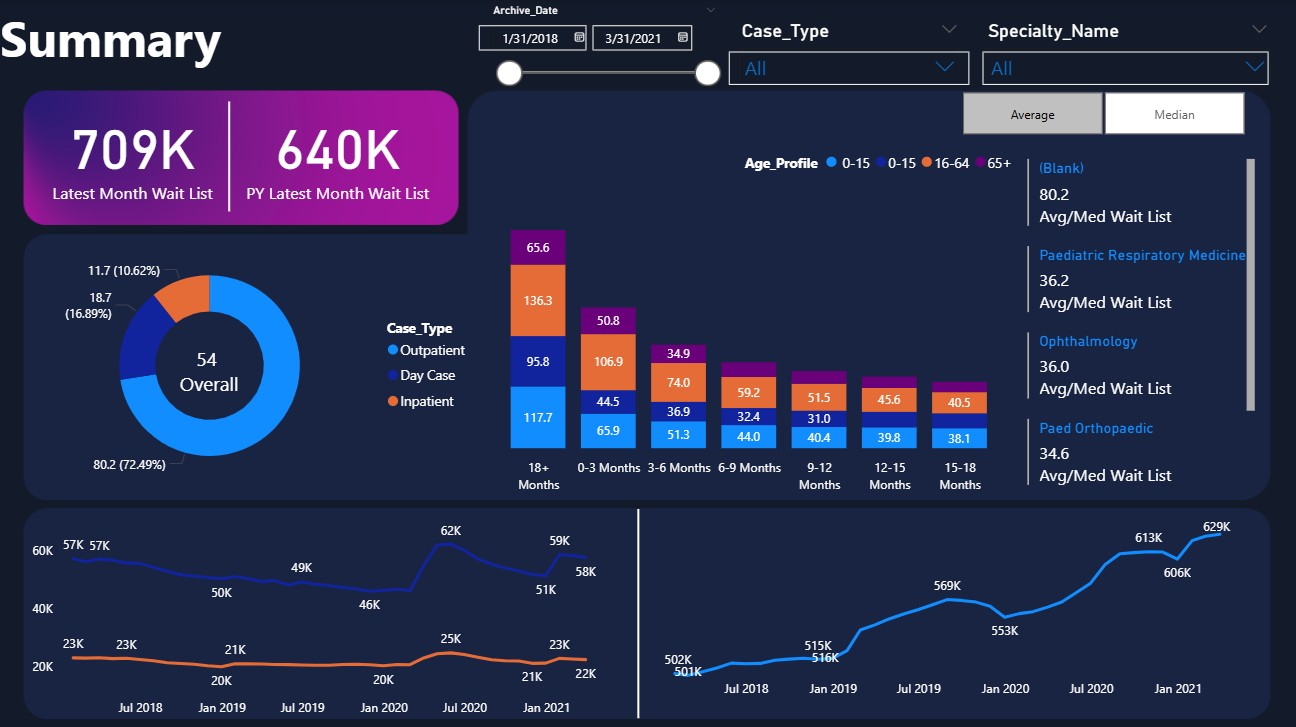

The dashboard page shown, as its layout file describes it:
{"tool":"powerbi","page":{"name":"Summary","canvas":[1280,720],"ordinal":0},"visuals":[{"type":"card","fields":{"Values":["All_Data.Latest Month Wait List"]},"box":[50,96,170,112],"z":0},{"type":"card","fields":{"Values":["All_Data.PY Latest Month Wait List"]},"box":[208,96,256,112],"z":1000},{"type":"slicer","fields":{"Values":["Table.Calc Method"]},"box":[924.4,84.3,326.6,55.3],"z":2000},{"type":"donutChart","fields":{"Category":["All_Data.Case_Type"],"Y":["All_Data.Avg/Med Wait List"]},"box":[31.6,234.4,443.7,251.5],"z":3000},{"type":"columnChart","fields":{"Y":["All_Data.Avg/Med Wait List"],"Series":["All_Data.Age_Profile"],"Category":["All_Data.Time_Bands"]},"box":[464,140,544,352],"z":4000},{"type":"multiRowCard","fields":{"Values":["All_Data.Avg/Med Wait List","All_Data.Specialty_Name"]},"box":[1008,152,233,334],"z":5000},{"type":"lineChart","fields":{"Category":["All_Data.Archive_Date"],"Y":["Sum(All_Data.Total)"],"Series":["All_Data.Case_Type"]},"box":[31.4,500,577.1,214.3],"z":6000},{"type":"slicer","fields":{"Values":["All_Data.Archive_Date"]},"box":[475.7,0,244.3,95.7],"z":7000},{"type":"slicer","fields":{"Values":["All_Data.Case_Type"]},"box":[720,15.7,237.1,64.3],"z":8000},{"type":"slicer","fields":{"Values":["All_Data.Specialty_Name"]},"box":[961.4,15.7,300,64.3],"z":9000},{"type":"textbox","box":[0,0,428,80],"z":10000},{"type":"lineChart","fields":{"Category":["All_Data.Archive_Date"],"Y":["Sum(All_Data.Total)"],"Series":["All_Data.Case_Type"]},"box":[640,500,591.4,195.7],"z":11000},{"type":"textbox","box":[167.2,334.5,86.9,65.8],"z":11001},{"type":"shape","box":[31.6,100.1,396.3,108],"z":11002},{"type":"shape","box":[31.6,500.4,1199.6,205.4],"z":11003},{"type":"shape","box":[475.4,26.3,106.7,25],"z":11004},{"type":"shape","box":[586,26.3,98.8,25],"z":11005},{"type":"shape","box":[720.3,51.4,237,32.9],"z":11006},{"type":"shape","box":[969.1,51.4,281.8,32.9],"z":11007}]}

Visuals, with their boxes in screenshot pixels (x1, y1, x2, y2), scaled from the page's 1280x720 canvas onto the 1296x727 screenshot:
card - All_Data.Latest Month Wait List: rect(51, 97, 223, 210)
card - All_Data.PY Latest Month Wait List: rect(211, 97, 470, 210)
slicer - Table.Calc Method: rect(936, 85, 1267, 141)
donutChart - All_Data.Case_Type x All_Data.Avg/Med Wait List: rect(32, 237, 481, 491)
columnChart - All_Data.Avg/Med Wait List x All_Data.Age_Profile: rect(470, 141, 1021, 497)
multiRowCard - All_Data.Avg/Med Wait List x All_Data.Specialty_Name: rect(1021, 153, 1257, 491)
lineChart - All_Data.Archive_Date x Sum(All_Data.Total): rect(32, 505, 616, 721)
slicer - All_Data.Archive_Date: rect(482, 0, 729, 97)
slicer - All_Data.Case_Type: rect(729, 16, 969, 81)
slicer - All_Data.Specialty_Name: rect(973, 16, 1277, 81)
textbox: rect(0, 0, 433, 81)
lineChart - All_Data.Archive_Date x Sum(All_Data.Total): rect(648, 505, 1247, 702)
textbox: rect(169, 338, 257, 404)
shape: rect(32, 101, 433, 210)
shape: rect(32, 505, 1247, 713)
shape: rect(481, 27, 589, 52)
shape: rect(593, 27, 693, 52)
shape: rect(729, 52, 969, 85)
shape: rect(981, 52, 1267, 85)
